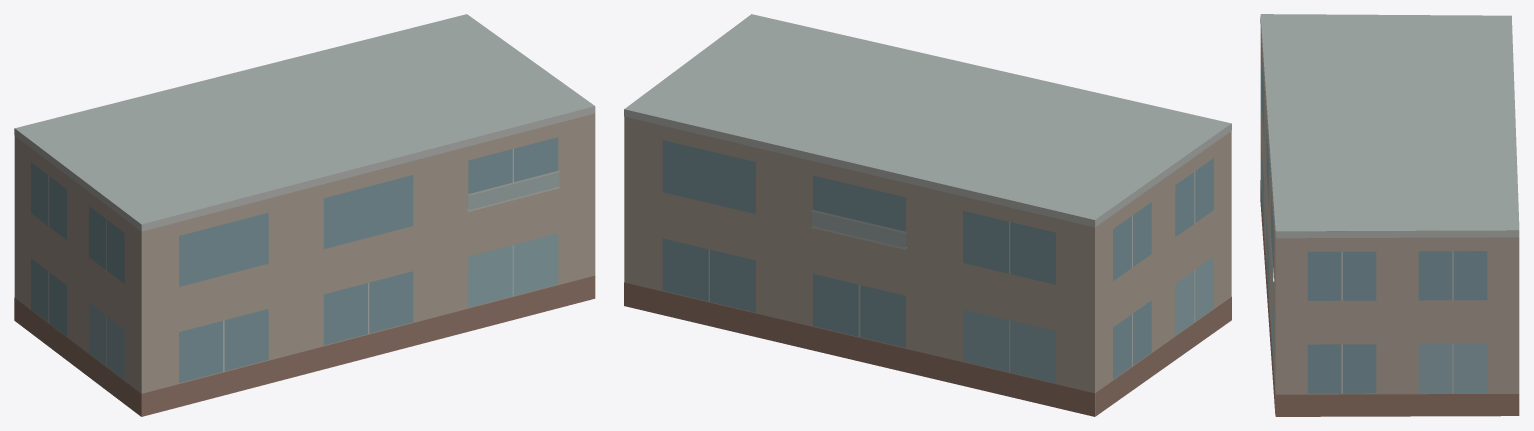
File: survey-upis-32759797.glb
3 views of the same model, side by side, from view 1: azimuth 30°, elevation 25°; view 2: azimuth 150°, elevation 25°; view 3: azimuth 270°, elevation 25° (orthographic). The views are drawn at different scales.
Parts seen in each view (by area): view 1: survey-upis-32759797.tmp; view 2: survey-upis-32759797.tmp; view 3: survey-upis-32759797.tmp.
Part boxes in pixels (<box>): survey-upis-32759797.tmp: <box>14,14,595,416</box>; survey-upis-32759797.tmp: <box>624,14,1231,416</box>; survey-upis-32759797.tmp: <box>1260,14,1519,416</box>.
Bounding box in the file's own units: 16.33 × 6.5 × 8.23.
